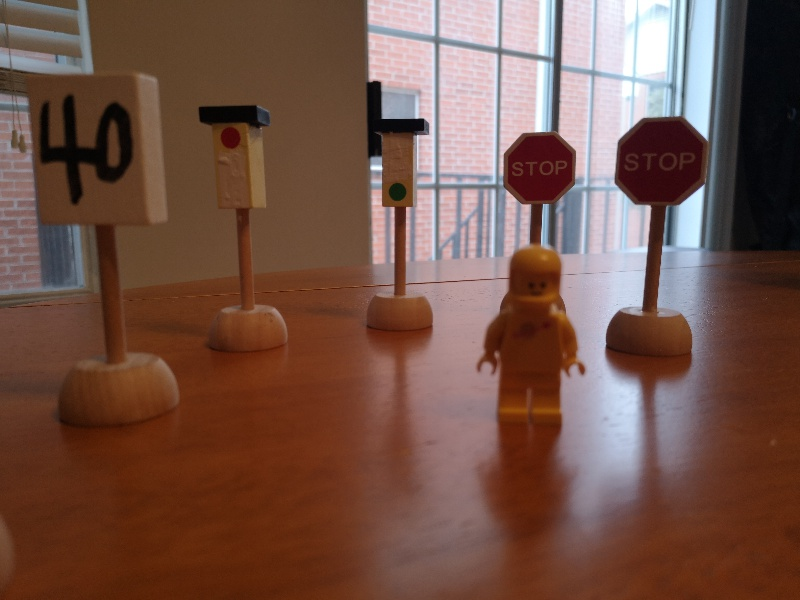Green Traffic Light: (375, 116, 430, 208)
Person: (481, 248, 586, 428)
Red Traffic Light: (198, 106, 272, 209)
Speed Limit 40: (27, 73, 169, 224)
Stop Sign: (614, 116, 712, 210), (501, 131, 578, 207)
